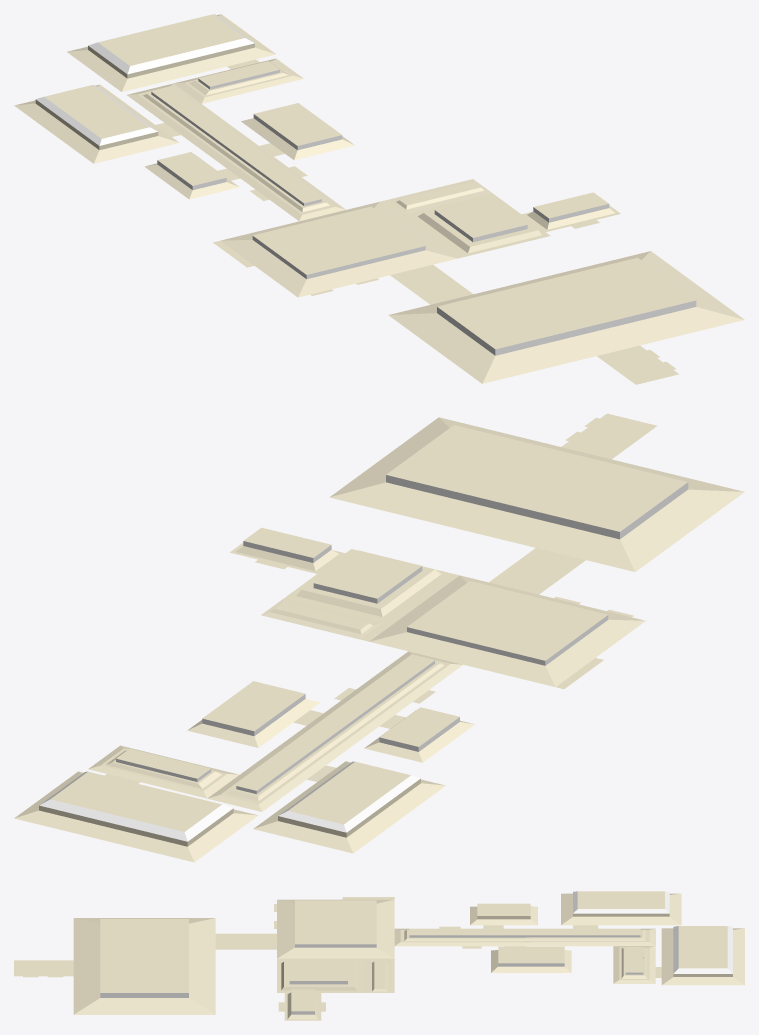
File: Ceiling04.FBX
3 views of the same model, one above another, from view 1: azimuth 30°, elevation 25°; view 2: azimuth 150°, elevation 25°; view 3: azimuth 270°, elevation 25° (orthographic). The views are drawn at different scales.
Parts seen in each view (by area): view 1: Ceiling001; view 2: Ceiling001; view 3: Ceiling001.
Boxes of the visible parts, left/top/right/bottom form: Ceiling001: left=14, top=14, right=744, bottom=384; Ceiling001: left=14, top=413, right=744, bottom=862; Ceiling001: left=14, top=891, right=744, bottom=1020.
Size of the model in its own units: 2649 by 102 by 6439.
